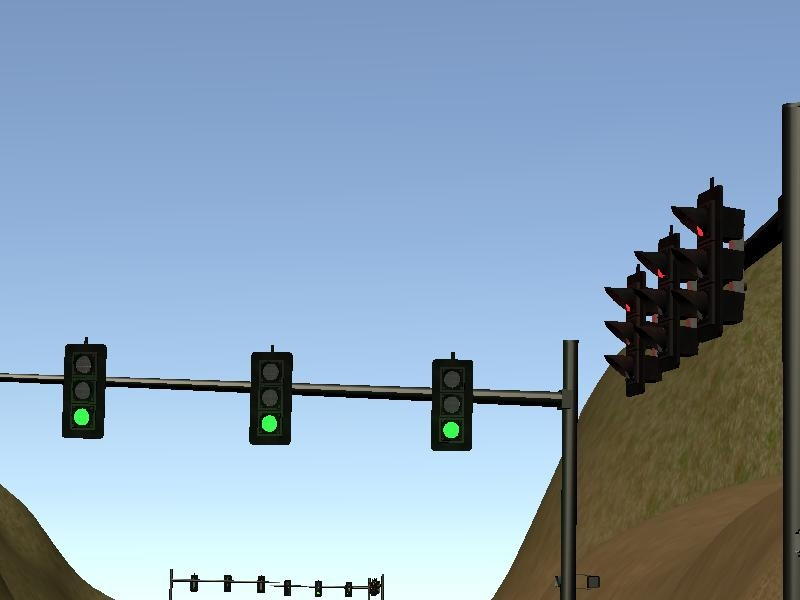green: (425, 352, 478, 456), (59, 336, 109, 446), (246, 349, 298, 446)
